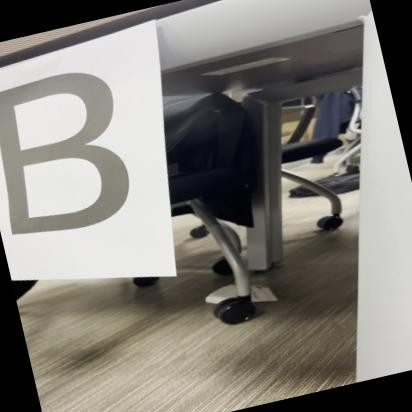seat: (0, 55, 161, 247)
